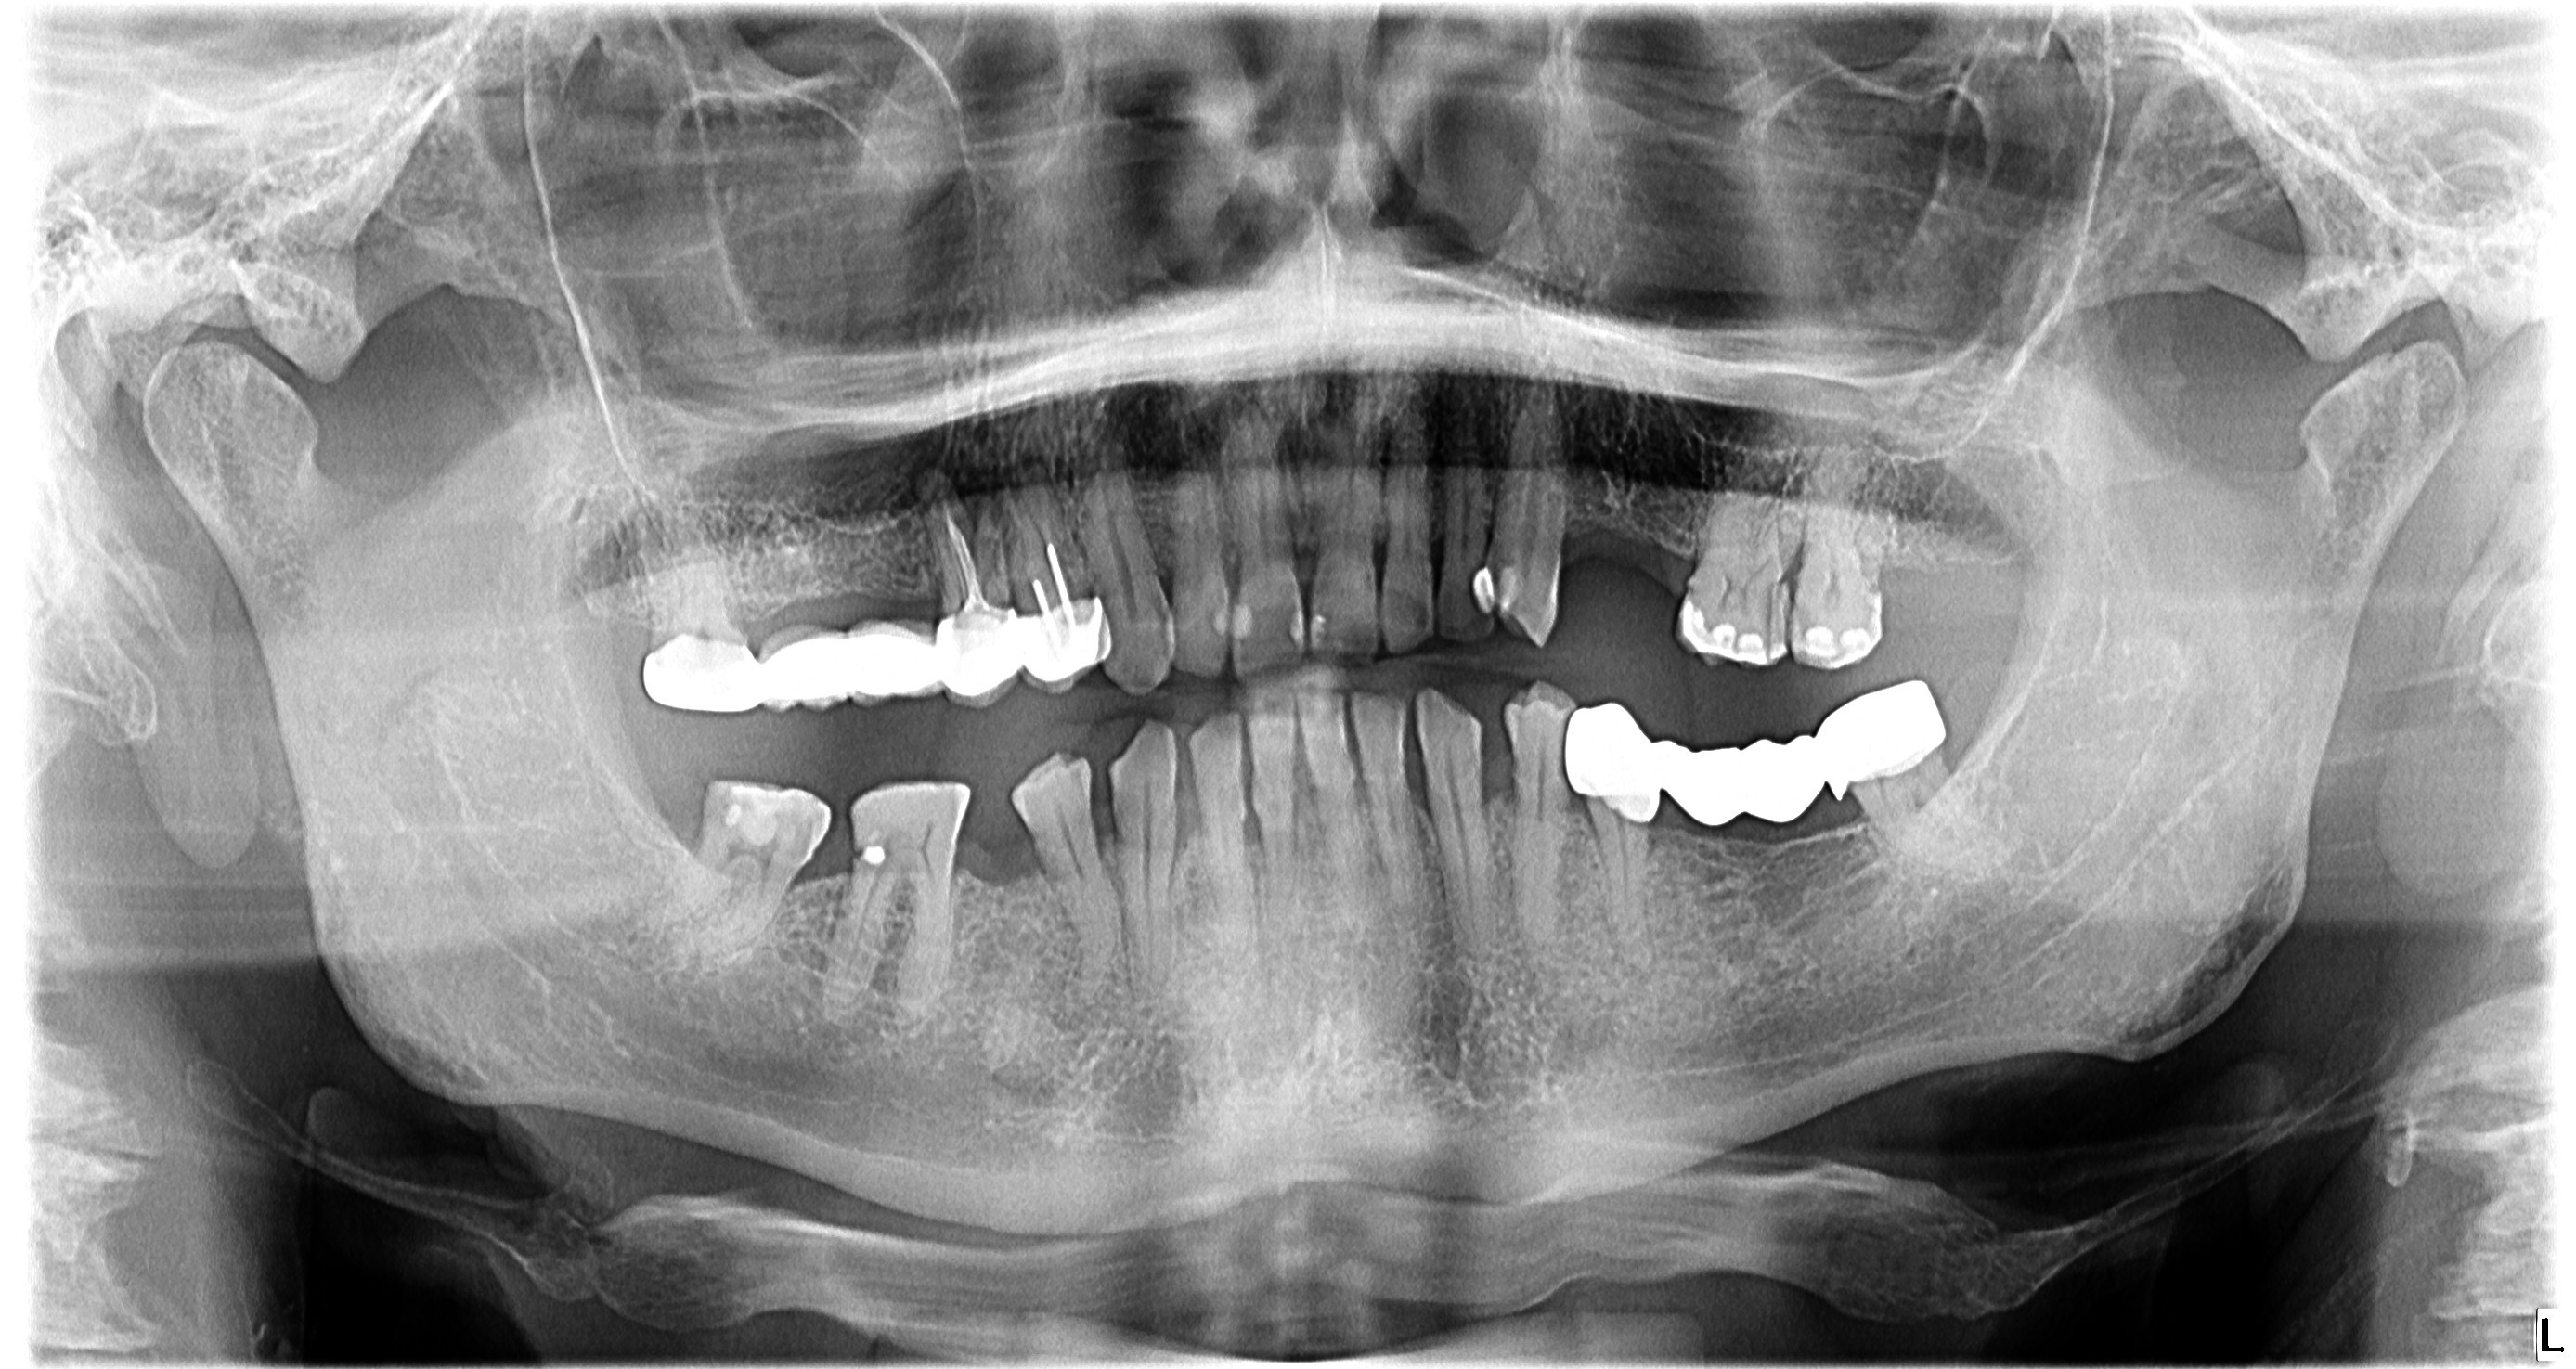BON: (1470, 759, 1527, 833), (1167, 795, 1211, 880), (1230, 782, 1274, 853), (1339, 756, 1377, 828), (1286, 759, 1322, 833), (1087, 819, 1133, 875), (1402, 761, 1445, 817)
END: (927, 477, 1000, 615)
OBT: (1663, 586, 1787, 686), (705, 771, 835, 860), (1785, 611, 1884, 673), (1222, 596, 1264, 654), (1460, 560, 1501, 620), (848, 828, 893, 875), (1198, 587, 1232, 644), (1489, 567, 1530, 610), (1278, 599, 1308, 656), (1305, 610, 1344, 647)
PRR: (622, 562, 1133, 729), (1538, 662, 1958, 843)
